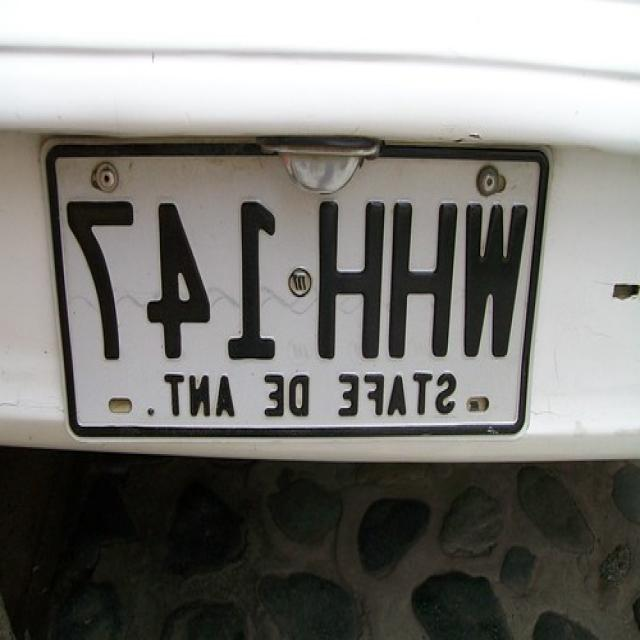placas: (50, 187, 534, 360)
